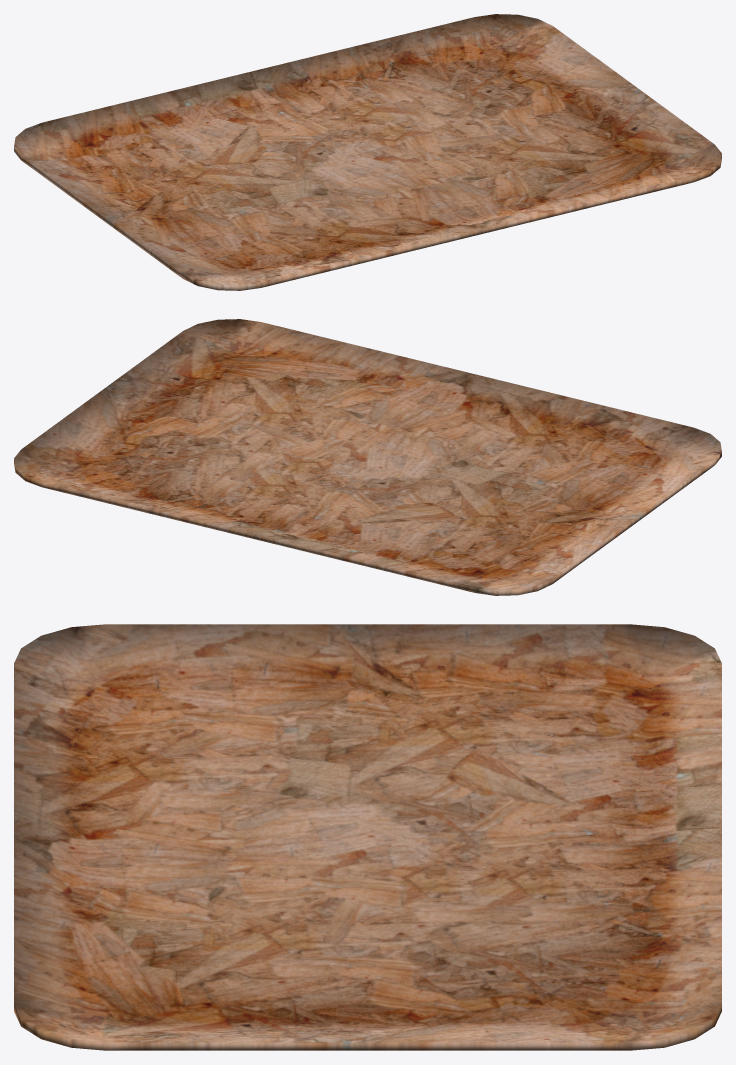
File: tray.fbx
3 views of the same model, one above another, from view 1: azimuth 30°, elevation 25°; view 2: azimuth 150°, elevation 25°; view 3: azimuth 270°, elevation 25° (orthographic). The views are drawn at different scales.
Visible parts, largest first — view 1: tray; view 2: tray; view 3: tray.
Boxes of the visible parts, bbox=[...] form: tray: bbox=[14, 14, 721, 290]; tray: bbox=[14, 319, 721, 595]; tray: bbox=[14, 624, 721, 1050].
Size of the model in its own units: 35 by 0.871 by 25.
